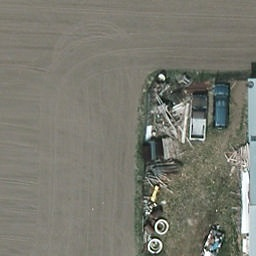car: (211, 83, 232, 130)
pickup: (189, 94, 209, 142)
